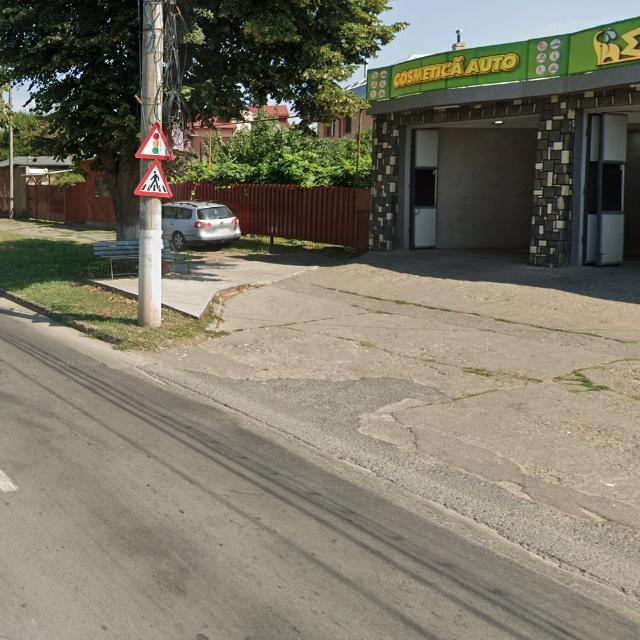warn_crosswalk: (133, 159, 174, 198)
